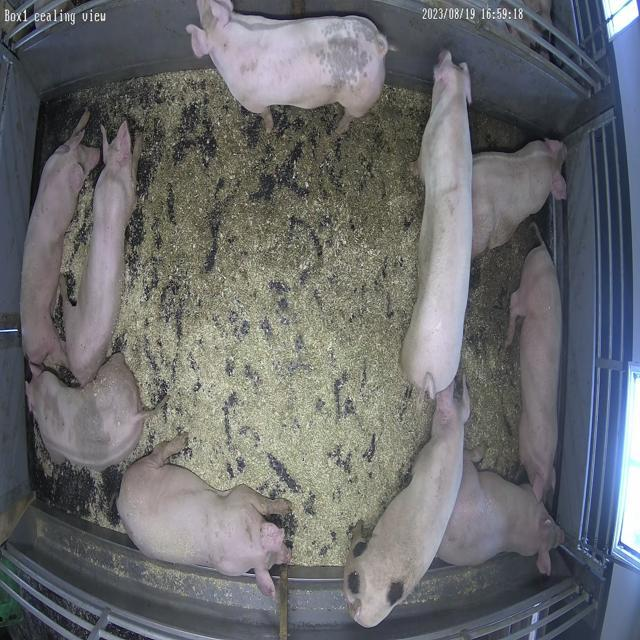Dirt: (127, 70, 430, 364), (464, 223, 537, 396), (472, 110, 530, 152)
Pig: (344, 383, 470, 628), (117, 433, 292, 598), (186, 0, 389, 132), (402, 50, 474, 396), (20, 111, 100, 368), (63, 121, 139, 386), (438, 451, 565, 576), (507, 244, 563, 502), (26, 354, 149, 470), (473, 140, 568, 256)
